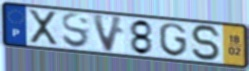8: (128, 18, 154, 57)
G: (157, 22, 189, 59)
S: (189, 24, 223, 63), (60, 12, 91, 50)
V: (90, 12, 126, 54)
X: (26, 8, 60, 47)
